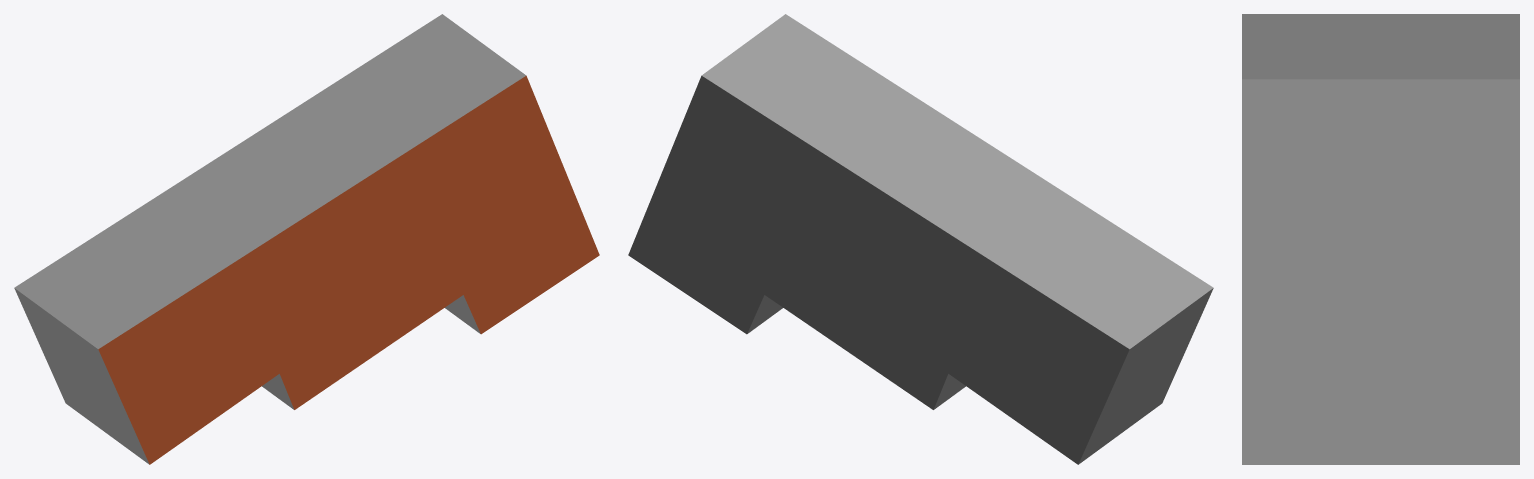
Rendered from construction_1626_assumed_A_Casa_h6m.obj.
3 views of the same model, side by side, from view 1: azimuth 30°, elevation 25°; view 2: azimuth 150°, elevation 25°; view 3: azimuth 270°, elevation 25° (orthographic). The views are drawn at different scales.
Parts seen in each view (by area): view 1: construction_1626_assumed_A_Casa; view 2: construction_1626_assumed_A_Casa; view 3: construction_1626_assumed_A_Casa.
Part boxes in pixels (left/top/right/bottom): construction_1626_assumed_A_Casa: left=14, top=14, right=599, bottom=464; construction_1626_assumed_A_Casa: left=628, top=14, right=1213, bottom=464; construction_1626_assumed_A_Casa: left=1242, top=14, right=1519, bottom=464.
Bounding box in the file's own units: 20.66 × 11.71 × 6.
